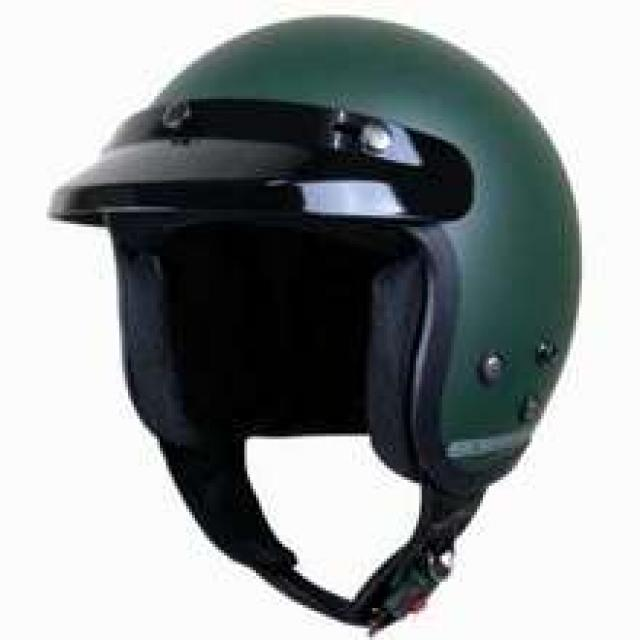Helm: (34, 5, 592, 639)
